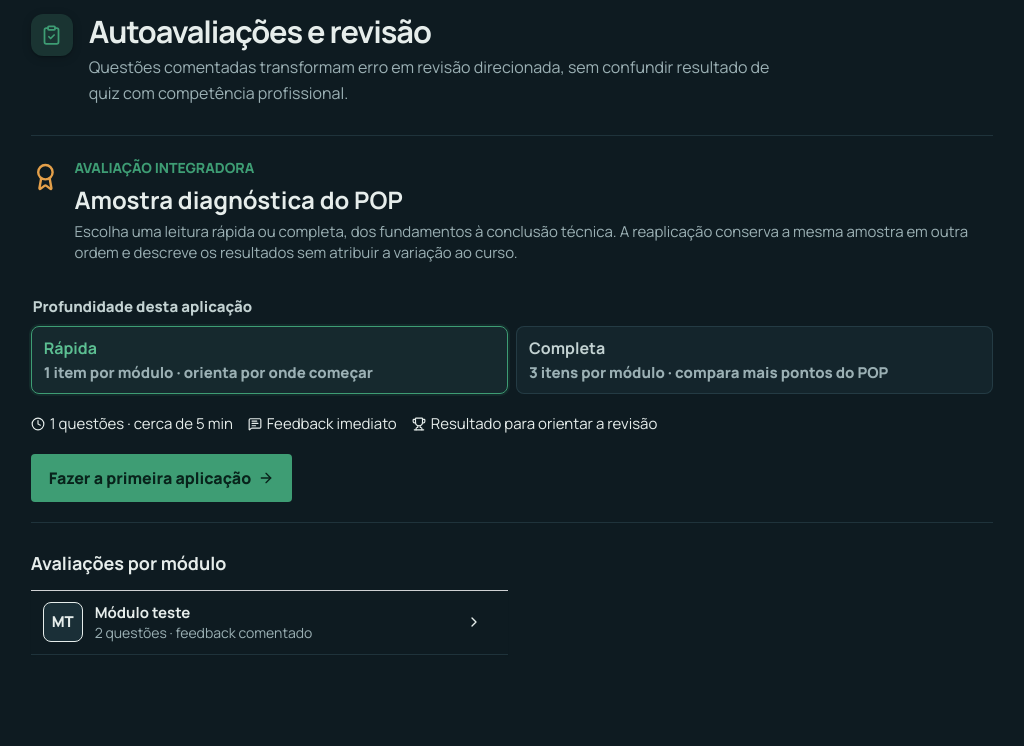
Test: interação acessível das autoavaliações › mantém o feedback do diagnóstico visível antes de avançar
The width and height of the screenshot is (1024, 746).
Click the button "Fazer a primeira aplicação": {"x": 161, "y": 478} [31, 454, 292, 502]
(page scrolled)
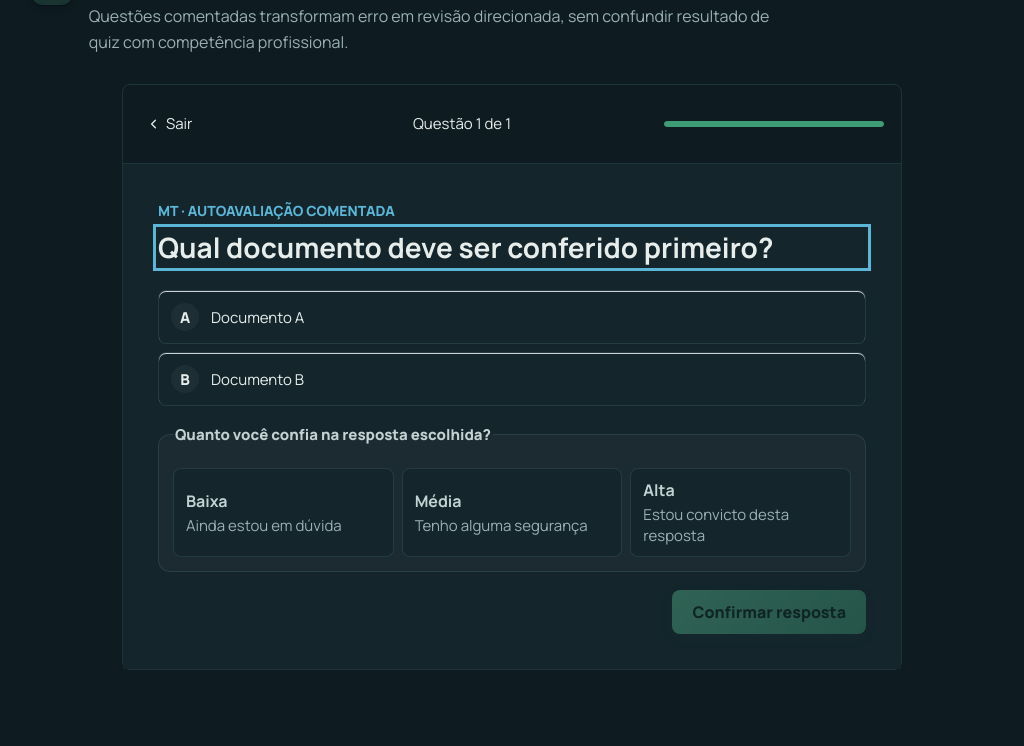
Click the button "B Documento B": {"x": 258, "y": 379} [158, 352, 866, 406]
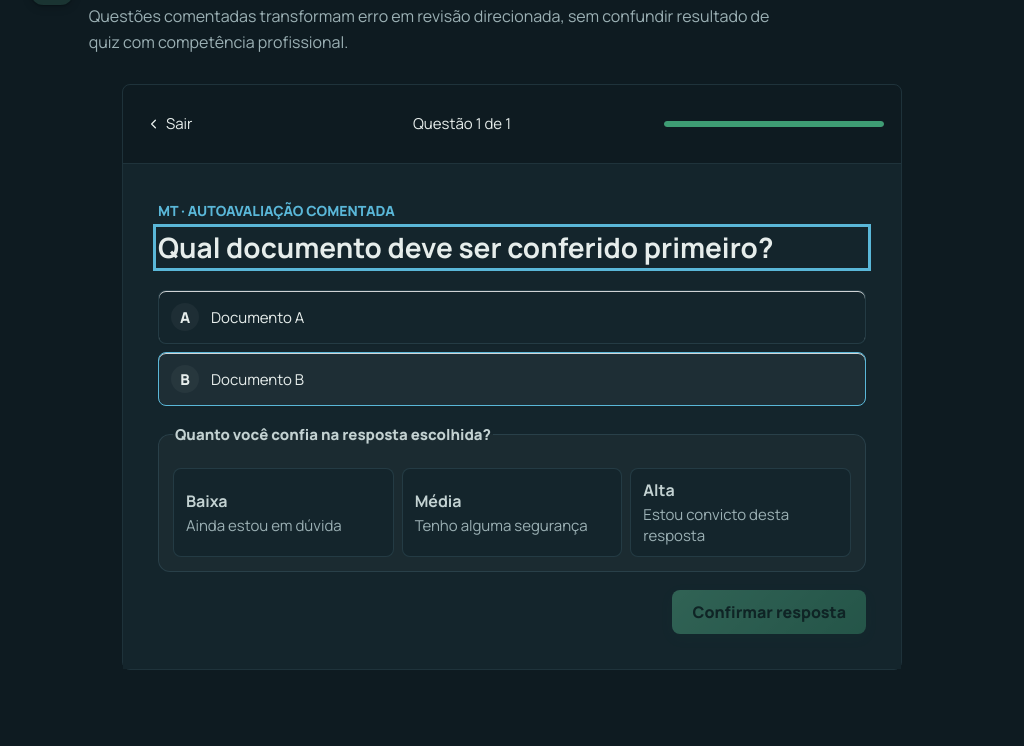
Click the button "Alta Estou convicto desta resposta": {"x": 741, "y": 513} [630, 468, 851, 557]
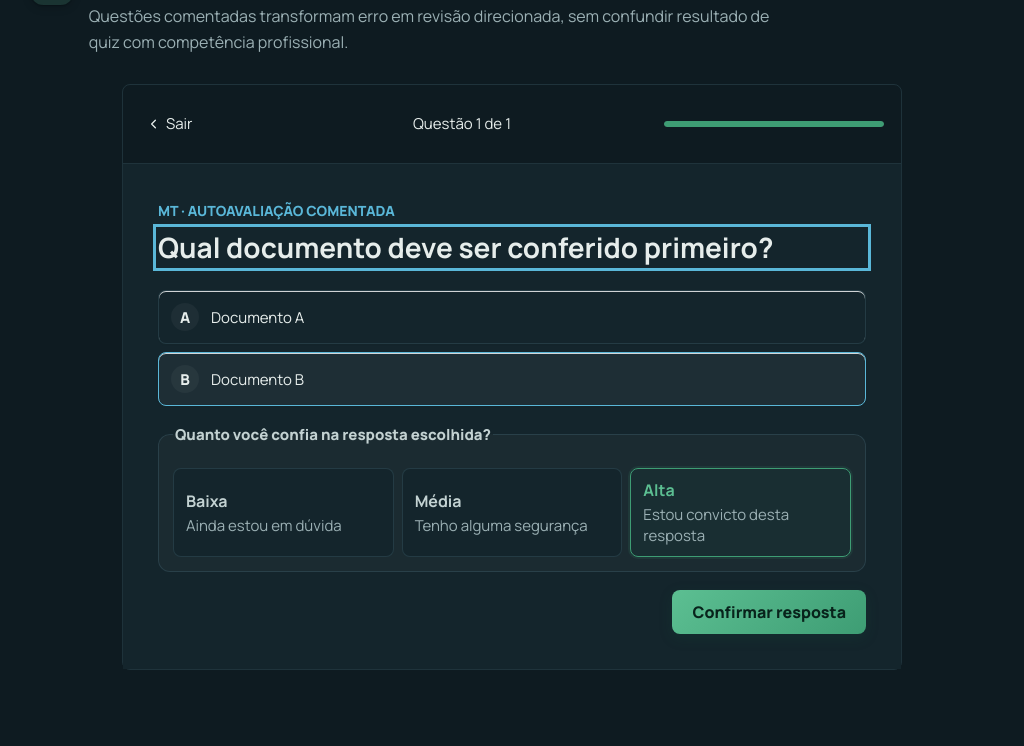
Click the button "Confirmar resposta": {"x": 769, "y": 612} [672, 590, 866, 634]
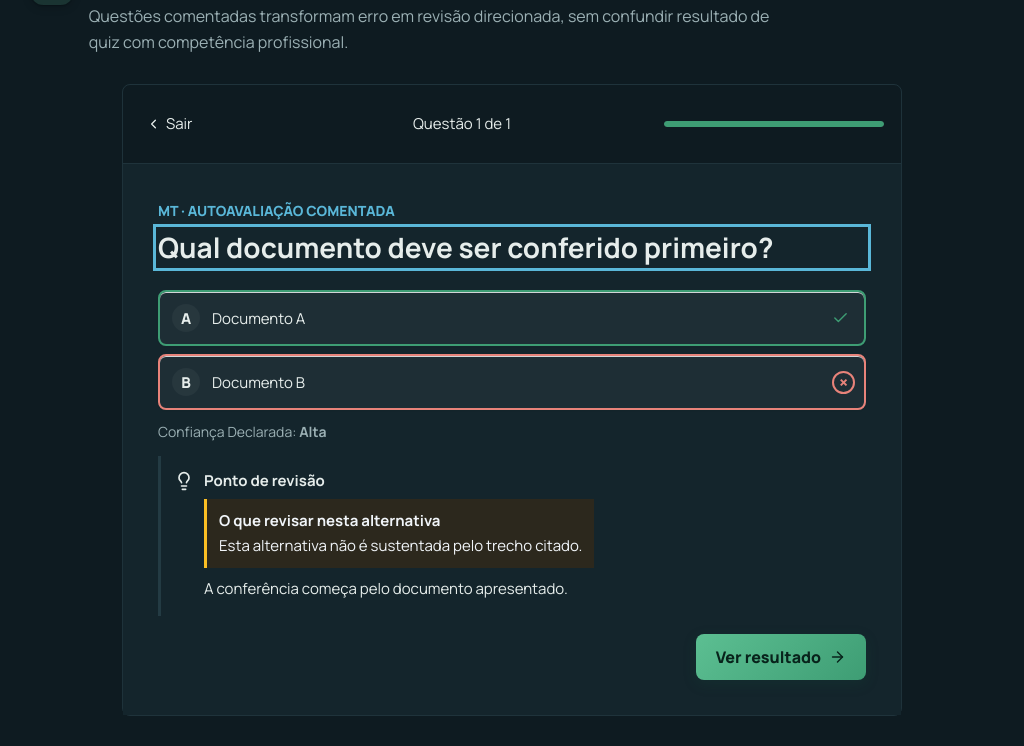
Result: the heading "Qual documento deve ser conferido primeiro?" is shown at [158, 229, 866, 266]
Result: the element with class "answer-feedback" is shown at [158, 456, 866, 616]
Result: the text "Ponto de revisão" is shown at [204, 470, 325, 491]
